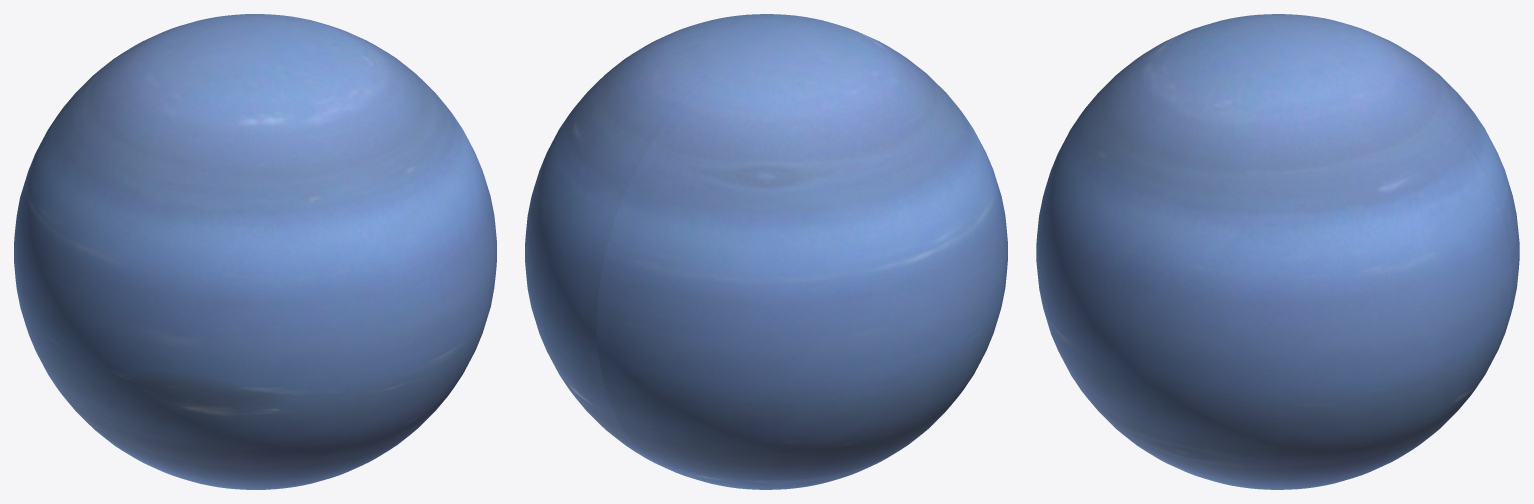
Rendered from neptune.glb.
3 views of the same model, side by side, from view 1: azimuth 30°, elevation 25°; view 2: azimuth 150°, elevation 25°; view 3: azimuth 270°, elevation 25° (orthographic).
Parts seen in each view (by area): view 1: Neptune; view 2: Neptune; view 3: Neptune.
Part boxes in pixels (x1=…): Neptune: x1=14, y1=14, x2=496, y2=489; Neptune: x1=525, y1=14, x2=1007, y2=489; Neptune: x1=1036, y1=14, x2=1519, y2=489.
Size of the model in its own units: 1000 by 983 by 1000.
Materials: 1 (1 with a texture image).
